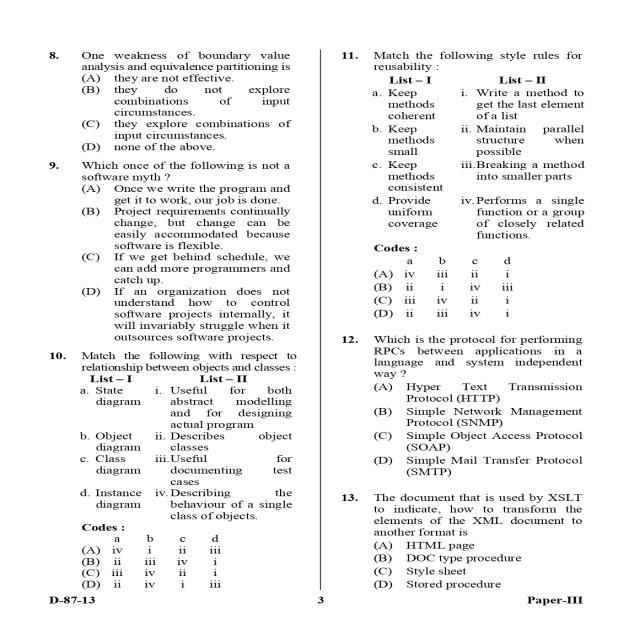Answer_Block: (44, 182, 308, 344), (330, 380, 596, 480), (332, 242, 598, 324), (44, 74, 308, 154), (43, 524, 310, 592), (329, 538, 596, 590)
Question_Answer_Block: (332, 42, 597, 325), (44, 347, 311, 592), (44, 158, 310, 344), (330, 333, 596, 480), (44, 40, 309, 154), (330, 488, 596, 590)
Question_Block: (331, 42, 598, 243), (43, 348, 310, 524), (329, 488, 596, 538), (332, 333, 596, 380), (44, 40, 308, 72), (43, 158, 310, 182)
Question_Paper_Area: (44, 41, 310, 593), (332, 42, 597, 590)
